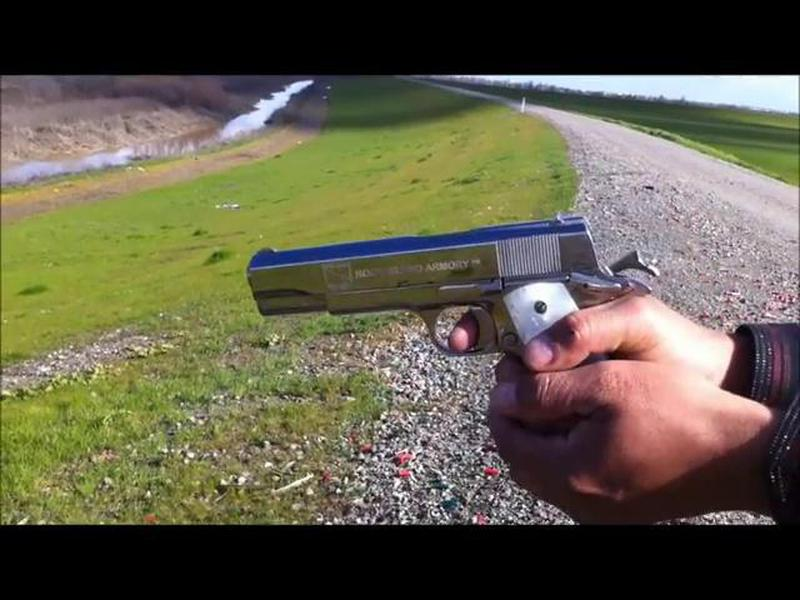Pistola: (209, 180, 458, 459)
